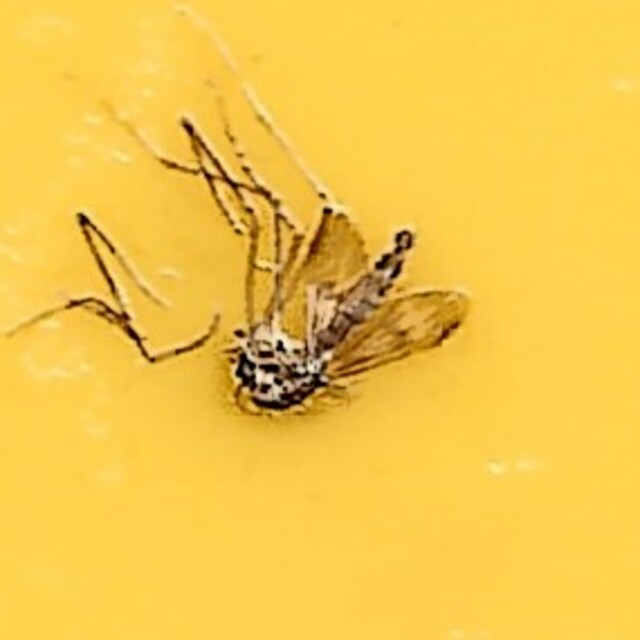Nematocera: (225, 222, 415, 418)
